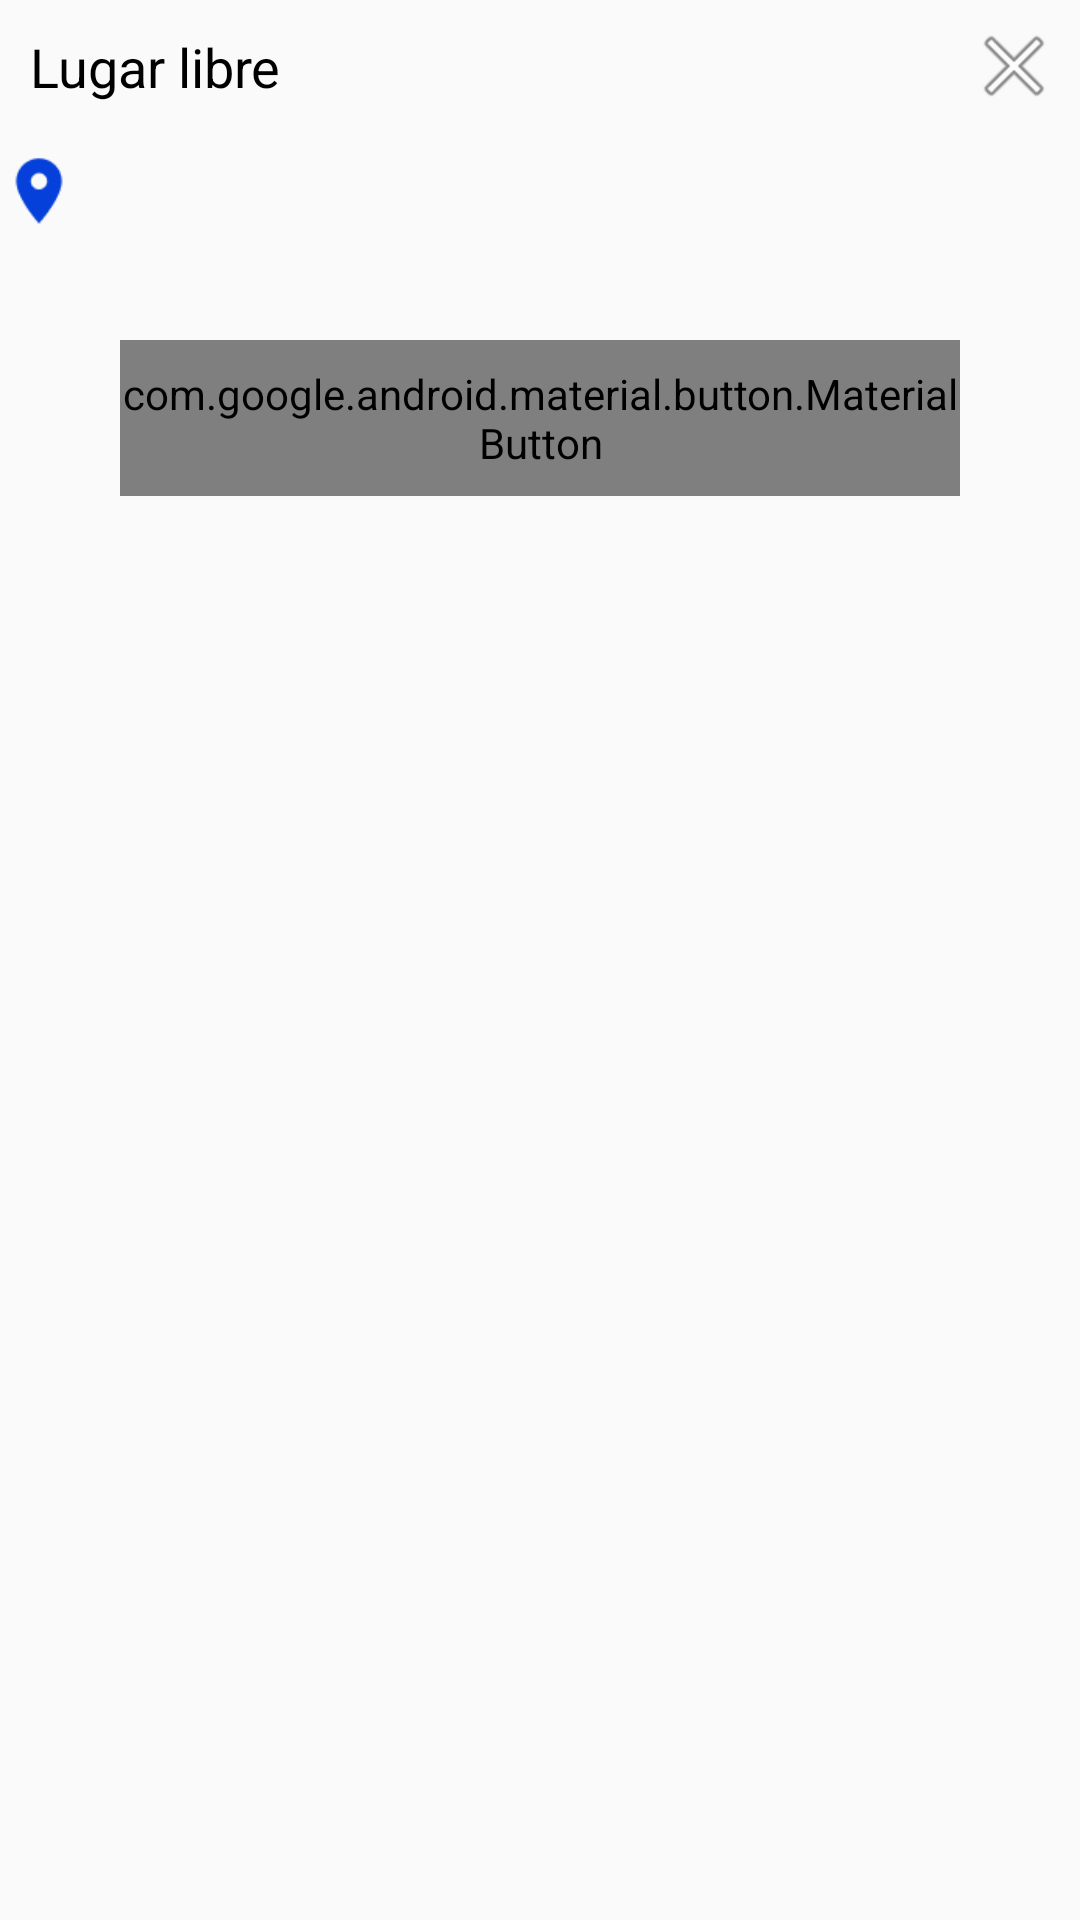

Locate icon controls on the screen. Image size 1080×1920, boxes as bbox(x1, y1, x2, y2).
close clear cancel: bbox(984, 36, 1044, 96)
